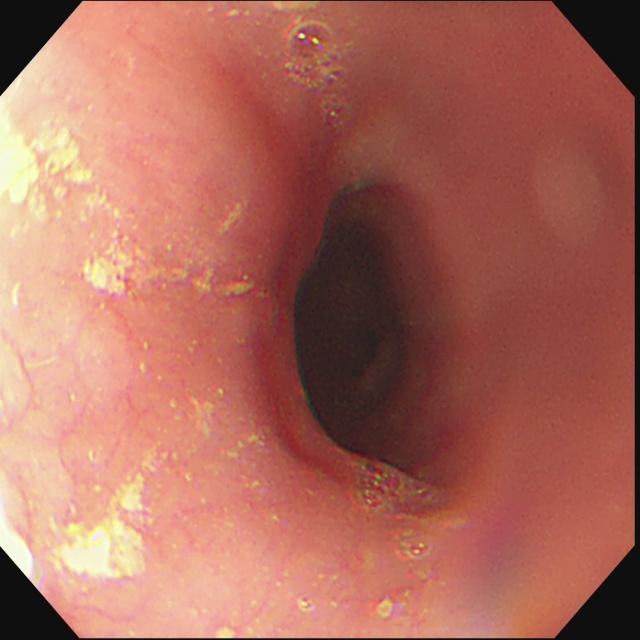E: (288, 222, 418, 440)
J: (2, 123, 254, 297), (56, 391, 223, 577)
T: (283, 16, 349, 125), (349, 458, 432, 521), (393, 531, 435, 563)
